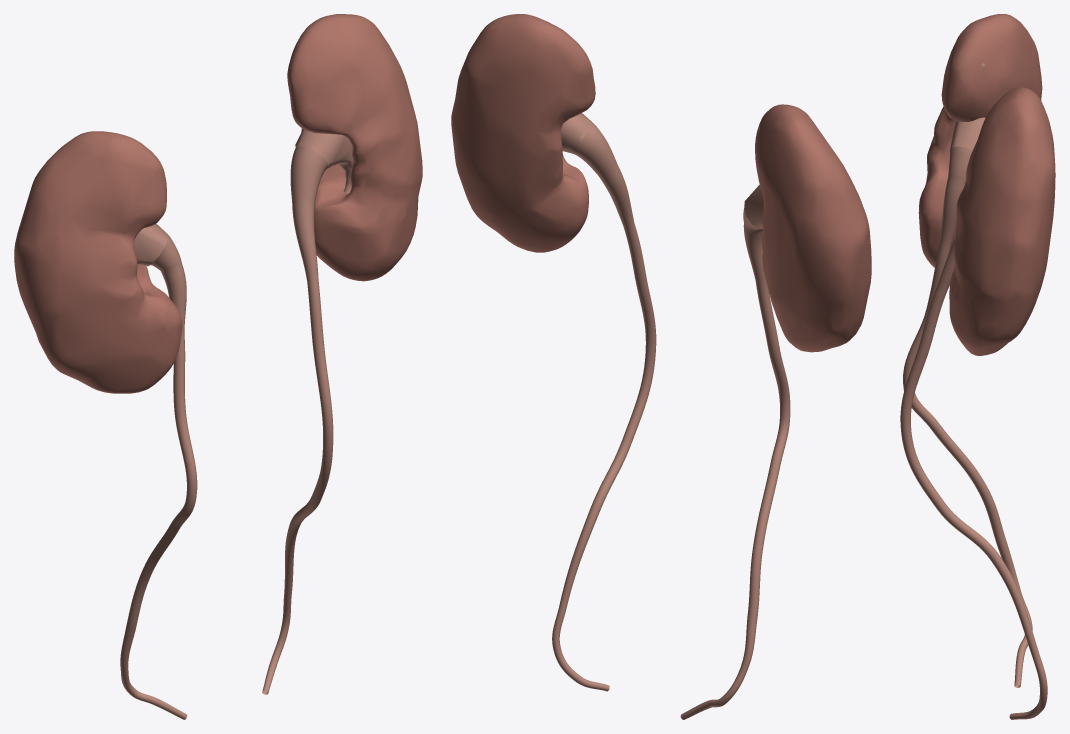
Rendered from detail-urinary-abdomen.glb.
3 renders of one model, left to right at view 1: azimuth 30°, elevation 25°; view 2: azimuth 150°, elevation 25°; view 3: azimuth 270°, elevation 25°, orthographic.
Visible parts, largest first — view 1: bp-FMA7204, bp-FMA7205, za-da3849b6acf40da2, za-432c02ae207ff7ef, za-e6b130219714530c, za-042615d3793795d5; view 2: bp-FMA7205, bp-FMA7204, za-da3849b6acf40da2, za-432c02ae207ff7ef, za-e6b130219714530c; view 3: bp-FMA7205, bp-FMA7204, za-da3849b6acf40da2, za-432c02ae207ff7ef, za-042615d3793795d5.
Part boxes in pixels (left/top/right/bottom): bp-FMA7204: left=14, top=131, right=182, bottom=393; bp-FMA7205: left=287, top=14, right=422, bottom=281; za-da3849b6acf40da2: left=262, top=146, right=333, bottom=694; za-432c02ae207ff7ef: left=120, top=235, right=197, bottom=719; za-e6b130219714530c: left=295, top=129, right=353, bottom=193; za-042615d3793795d5: left=134, top=223, right=167, bottom=266; bp-FMA7205: left=451, top=14, right=595, bottom=252; bp-FMA7204: left=755, top=104, right=871, bottom=352; za-da3849b6acf40da2: left=552, top=121, right=656, bottom=691; za-432c02ae207ff7ef: left=680, top=208, right=790, bottom=719; za-e6b130219714530c: left=561, top=113, right=591, bottom=152; bp-FMA7205: left=949, top=87, right=1055, bottom=355; bp-FMA7204: left=918, top=14, right=1042, bottom=267; za-da3849b6acf40da2: left=900, top=238, right=1047, bottom=719; za-432c02ae207ff7ef: left=903, top=146, right=1032, bottom=687; za-042615d3793795d5: left=949, top=63, right=985, bottom=151.
Bounding box in the file's own units: 0.1813 × 0.2865 × 0.0601.
